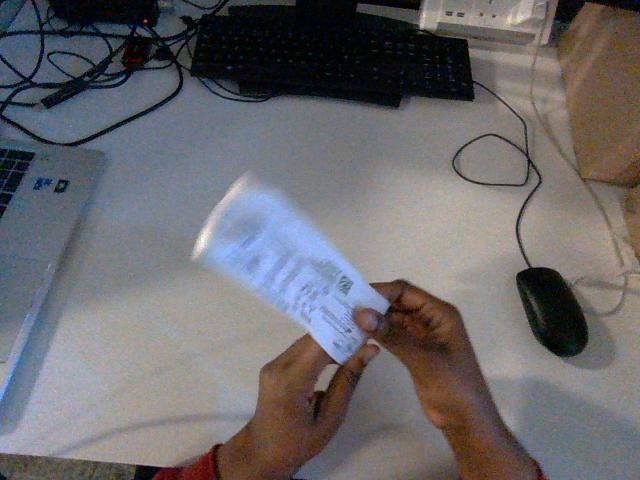syringe: (193, 176, 388, 363)
